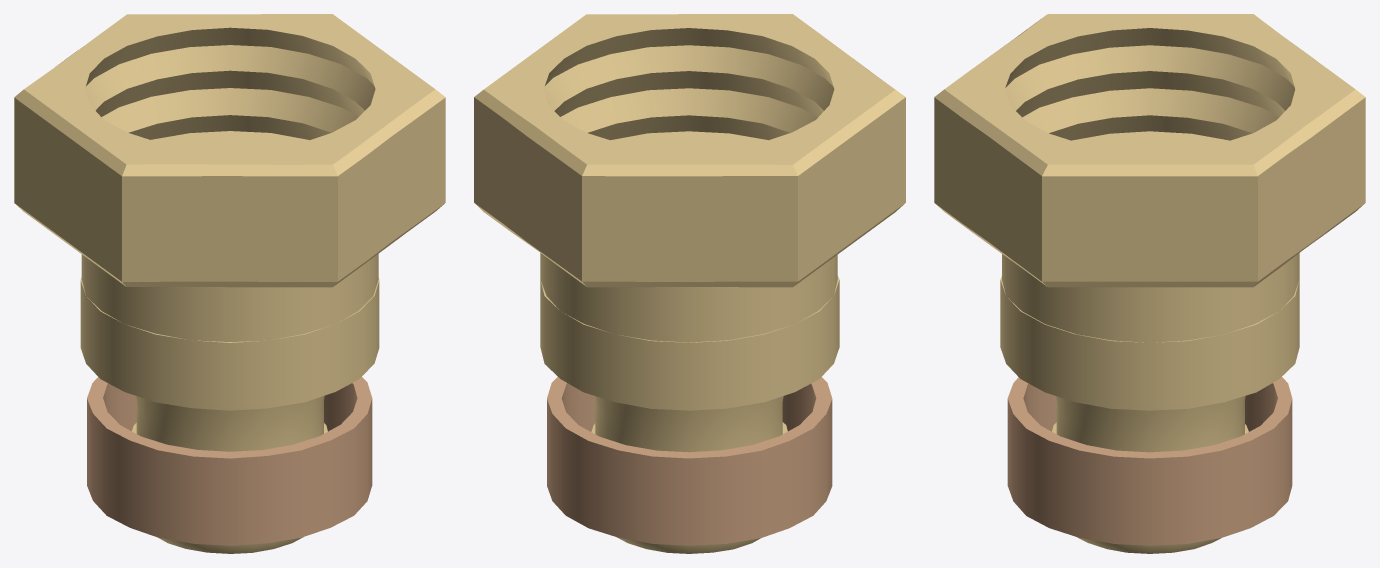
The model's file is slab_pipes_supply__water__bf426e39.glb.
3 views of the same model, side by side, from view 1: azimuth 30°, elevation 25°; view 2: azimuth 150°, elevation 25°; view 3: azimuth 270°, elevation 25° (orthographic).
Visible parts, largest first — view 1: fit_adapter_pipe_supply_well_to_softener_fs__pex; view 2: fit_adapter_pipe_supply_well_to_softener_fs__pex; view 3: fit_adapter_pipe_supply_well_to_softener_fs__pex.
Part boxes in pixels (x1,y1,x2,y2): fit_adapter_pipe_supply_well_to_softener_fs__pex: (14,14,445,553); fit_adapter_pipe_supply_well_to_softener_fs__pex: (474,14,905,553); fit_adapter_pipe_supply_well_to_softener_fs__pex: (934,14,1365,553).
Bounding box in the file's own units: 0.0317 × 0.04 × 0.0366.
